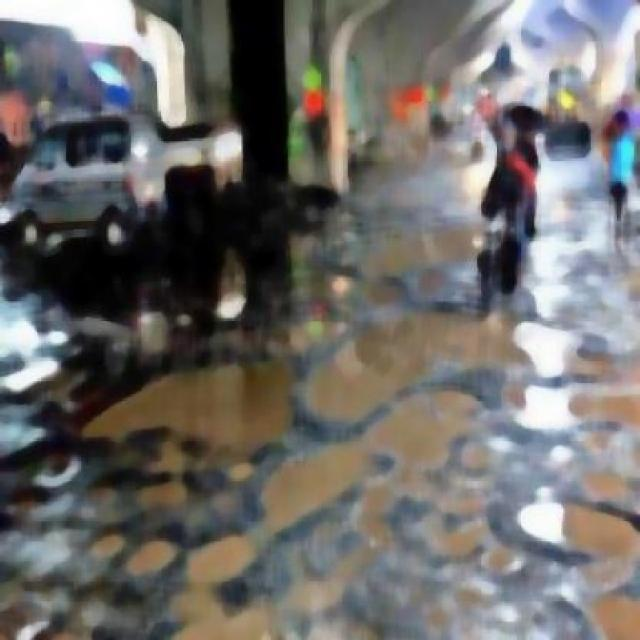pothole: (315, 290, 588, 387), (104, 370, 298, 475), (520, 463, 631, 572)
